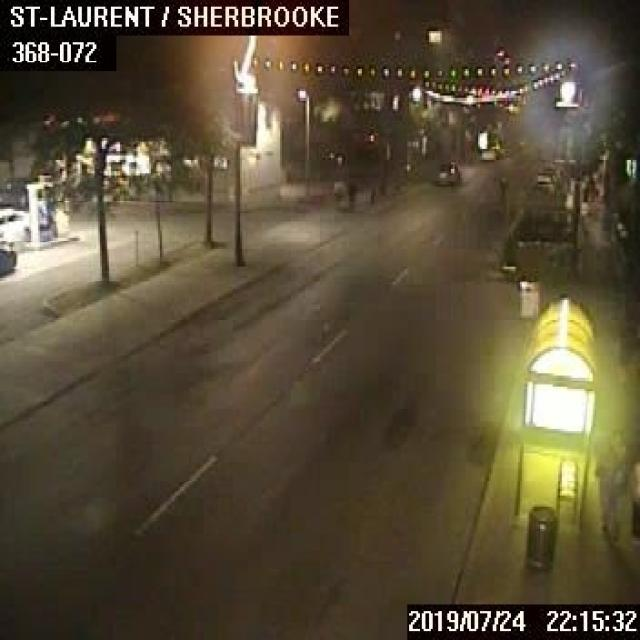pedestrian: (593, 427, 625, 533)
vehicle: (0, 206, 29, 241), (432, 158, 458, 184), (0, 236, 15, 276)
